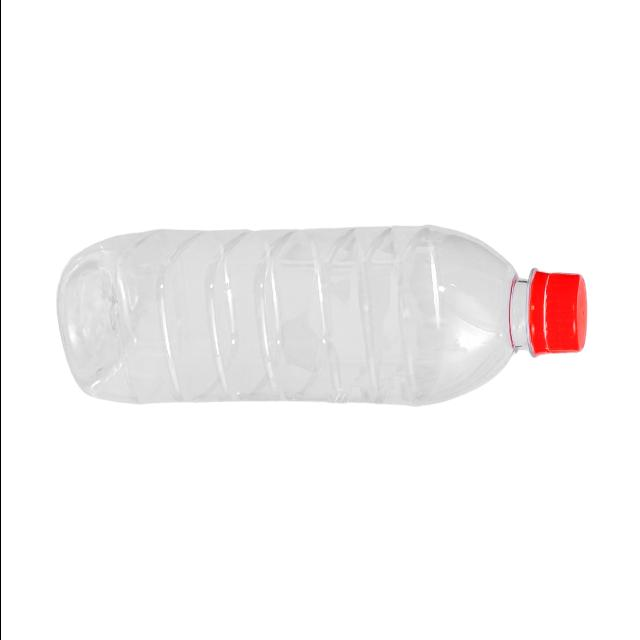bottom: (47, 229, 156, 413)
cap: (503, 249, 591, 378)
